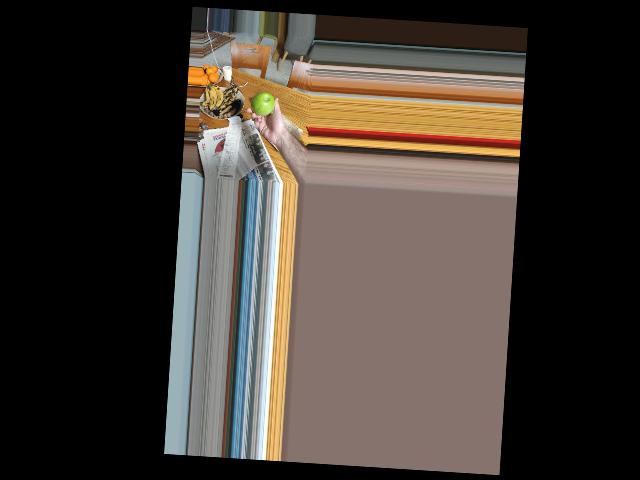apple: (249, 89, 278, 118)
